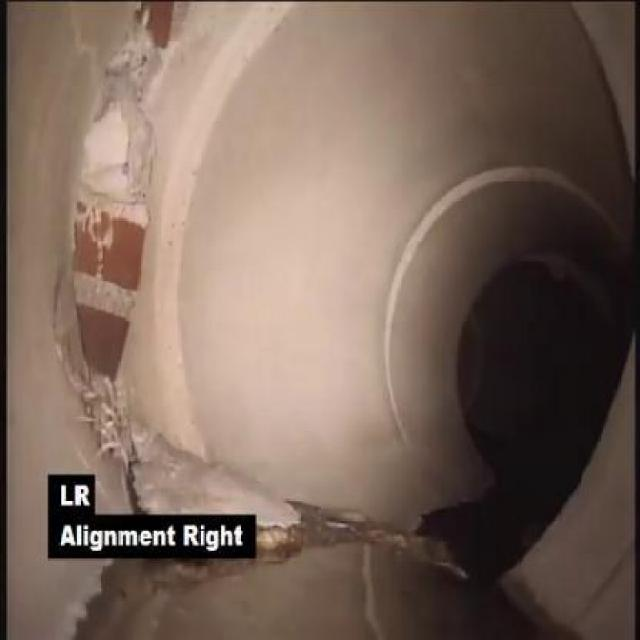Joint offset: (57, 15, 298, 472), (411, 112, 618, 260)
